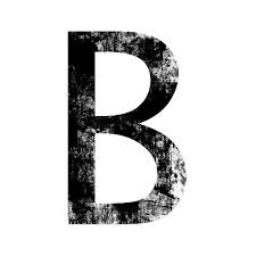b: (56, 17, 190, 235)
